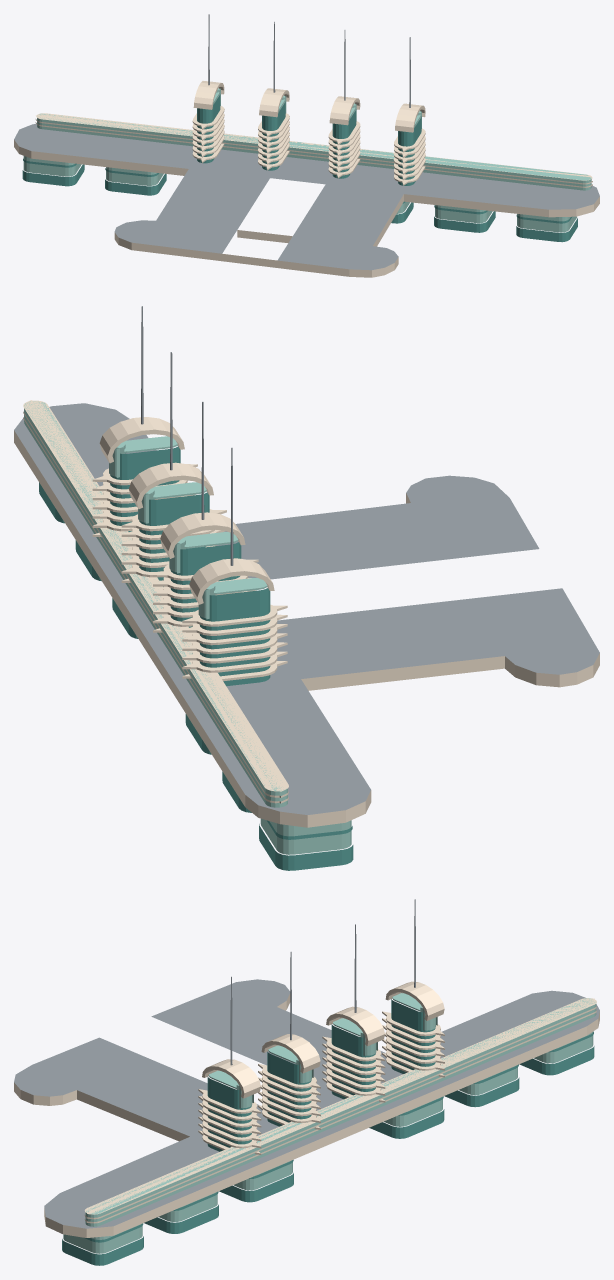
The model's file is detail.glb.
3 renders of one model, top to bottom at view 1: azimuth 30°, elevation 25°; view 2: azimuth 150°, elevation 25°; view 3: azimuth 270°, elevation 25°, orthographic. The views are drawn at different scales.
Parts seen in each view (by area): view 1: disneys-hollywood-studios-entrance-walt-disney-world; view 2: disneys-hollywood-studios-entrance-walt-disney-world; view 3: disneys-hollywood-studios-entrance-walt-disney-world.
Part boxes in pixels (x1,y1,x2,y2): disneys-hollywood-studios-entrance-walt-disney-world: [14, 14, 599, 277]; disneys-hollywood-studios-entrance-walt-disney-world: [14, 306, 599, 870]; disneys-hollywood-studios-entrance-walt-disney-world: [14, 899, 599, 1265].
Size of the model in its own units: 51.12 by 21 by 50.77.
